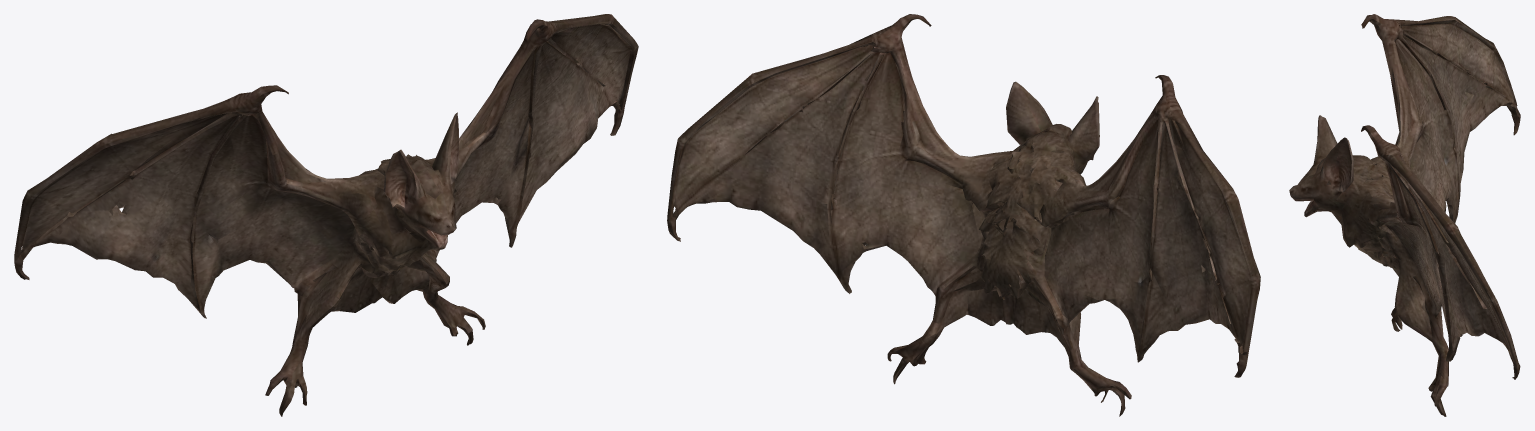
Rendered from mon_bat.glb.
The picture shows the model from 3 angles, left to right: view 1: azimuth 30°, elevation 25°; view 2: azimuth 150°, elevation 25°; view 3: azimuth 270°, elevation 25°; orthographic projection. The views are drawn at different scales.
Visible parts, largest first — view 1: mon_bat; view 2: mon_bat; view 3: mon_bat.
Part boxes in pixels (x1,y1,x2,y2): mon_bat: [14, 14, 638, 416]; mon_bat: [667, 14, 1260, 416]; mon_bat: [1289, 14, 1520, 416].
Bounding box in the file's own units: 1.9 × 1.04 × 0.7217.
Materials: 1 (1 with a texture image).
